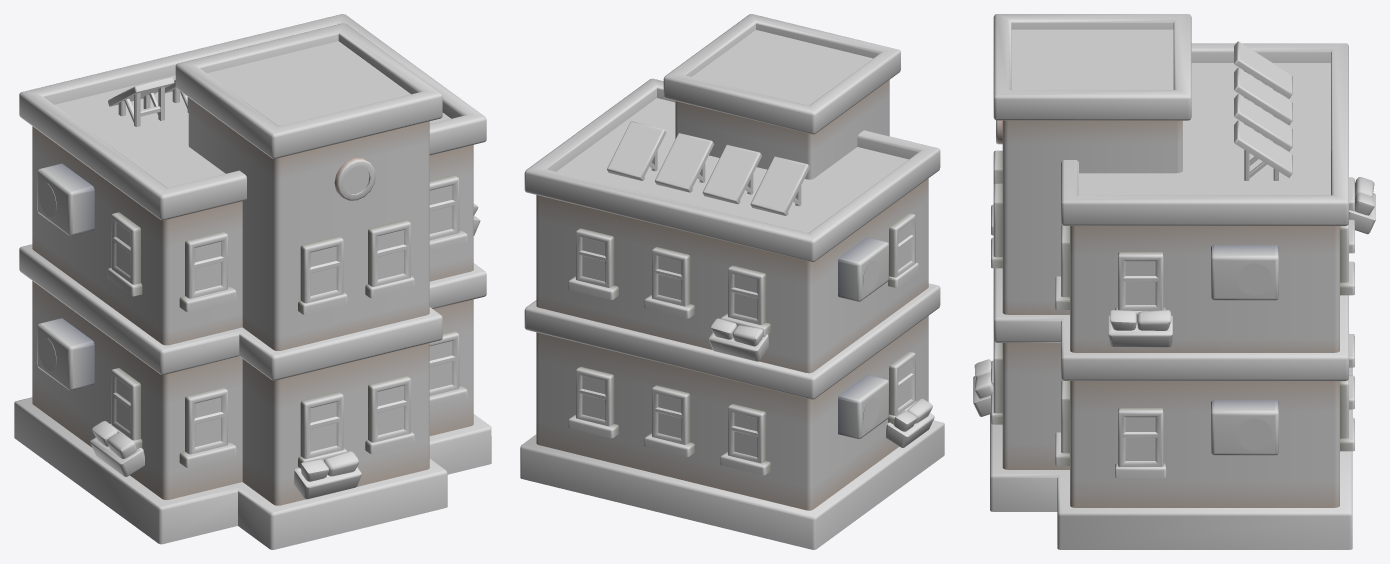
File: NF_Bld_House 49.fbx
The picture shows the model from 3 angles, left to right: view 1: azimuth 30°, elevation 25°; view 2: azimuth 150°, elevation 25°; view 3: azimuth 270°, elevation 25°; orthographic projection. The views are drawn at different scales.
Parts seen in each view (by area): view 1: House_49; view 2: House_49; view 3: House_49.
Part boxes in pixels (x1,y1,x2,y2): House_49: [14, 14, 491, 549]; House_49: [520, 14, 944, 549]; House_49: [973, 14, 1375, 549].
Size of the model in its own units: 9.3 by 10.15 by 8.94.
